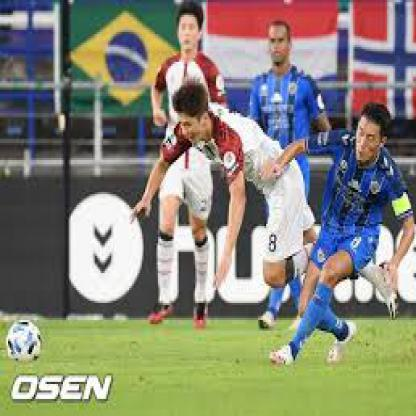Fall_Down: (125, 81, 402, 324)
